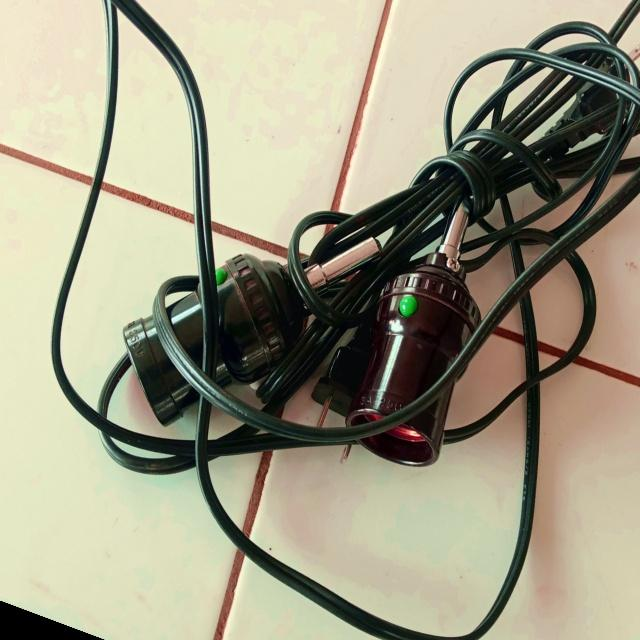Bulb Socket: (47, 26, 618, 618)
